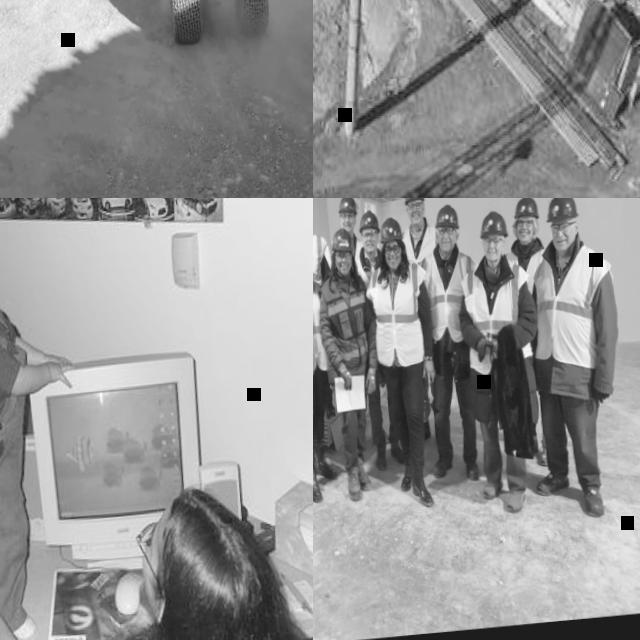Hardhat: (478, 209, 509, 239), (543, 198, 579, 223), (433, 203, 460, 231), (378, 216, 405, 243), (329, 227, 355, 253), (511, 198, 539, 221), (357, 209, 380, 235), (336, 198, 357, 215), (402, 198, 424, 205)
NO-Hardhat: (157, 483, 282, 639)
NO-Mask: (139, 551, 166, 616), (551, 232, 574, 252), (484, 246, 502, 263), (438, 236, 457, 252), (385, 253, 402, 270), (516, 228, 533, 244), (409, 210, 425, 226), (335, 261, 351, 276), (363, 239, 378, 254), (341, 220, 355, 233)
NO-Safety Vest: (0, 310, 35, 489)
Person: (0, 481, 313, 640), (507, 198, 639, 524), (0, 219, 96, 640), (449, 206, 557, 519), (359, 213, 448, 512), (409, 200, 499, 483), (313, 226, 393, 504), (500, 198, 563, 469), (346, 207, 407, 472), (393, 198, 456, 442), (333, 198, 381, 446), (313, 198, 347, 448), (313, 227, 342, 506)
Safety Vest: (526, 240, 621, 375), (458, 253, 538, 375), (362, 259, 435, 370), (414, 244, 486, 347), (317, 273, 373, 370), (503, 247, 549, 298), (401, 224, 441, 266), (321, 234, 364, 271), (313, 276, 328, 380), (355, 245, 385, 287), (313, 228, 331, 285)
vehicle: (111, 0, 303, 60)
